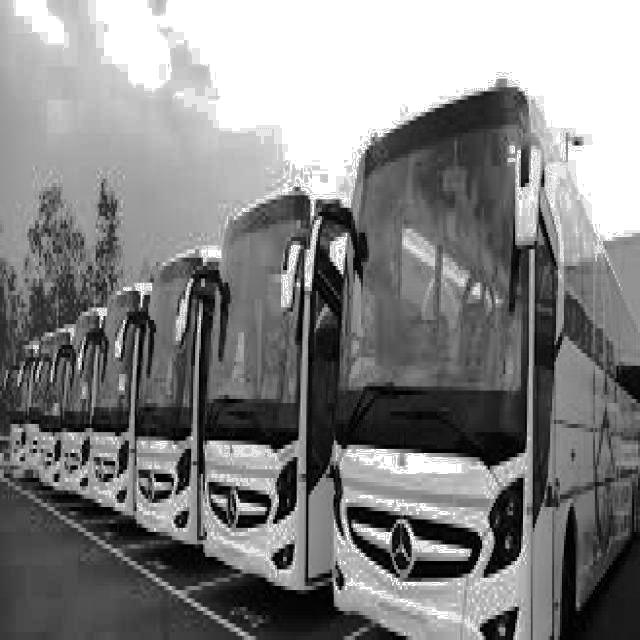Bus: (338, 76, 640, 640), (199, 165, 344, 615), (130, 233, 213, 563), (86, 264, 138, 546), (56, 282, 95, 526), (36, 296, 69, 506), (4, 316, 30, 496)
